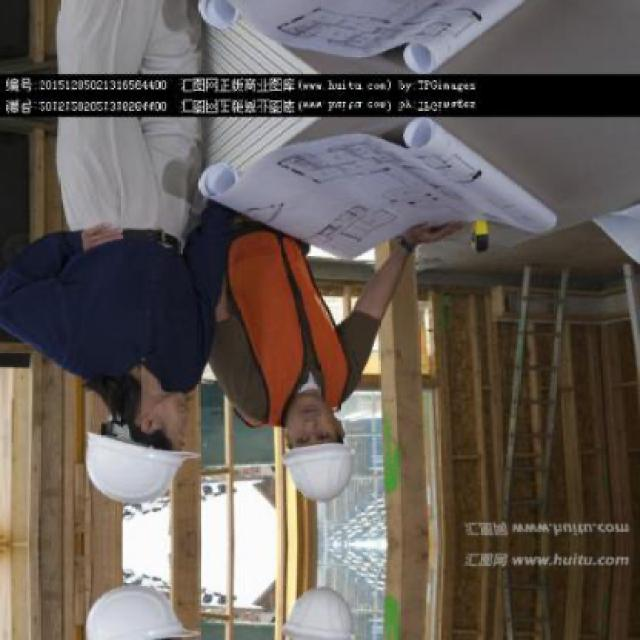con casco: (87, 370, 194, 504), (252, 400, 362, 500)
